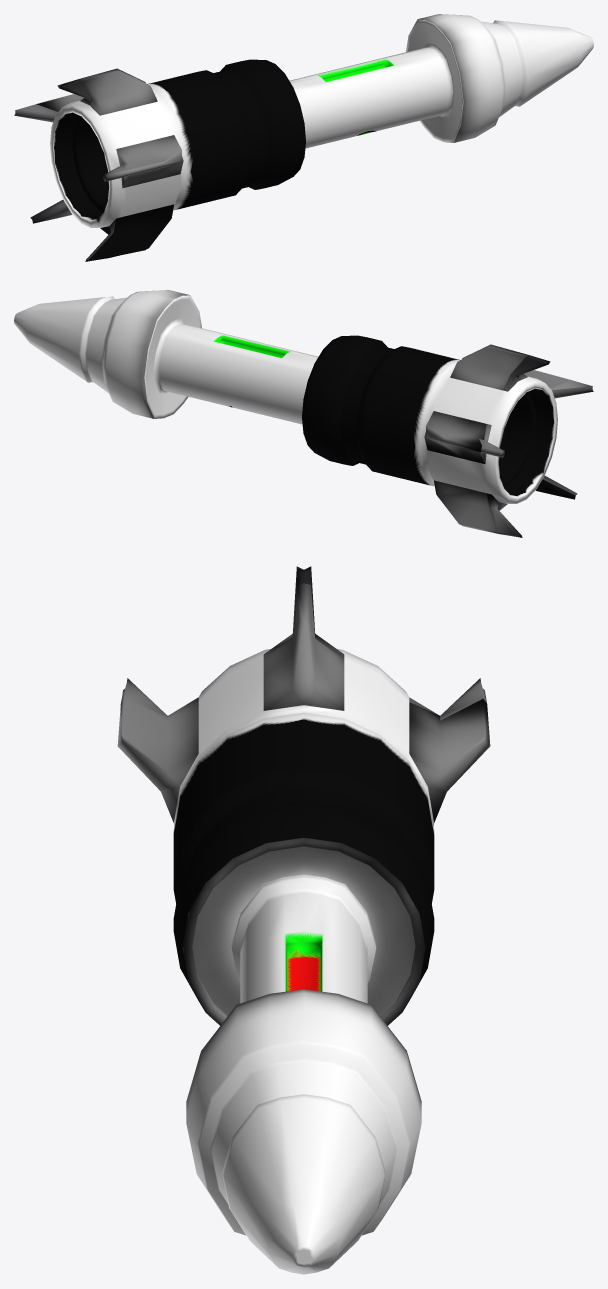
The model's file is OpenRocket.fbx.
3 views of the same model, one above another, from view 1: azimuth 30°, elevation 25°; view 2: azimuth 150°, elevation 25°; view 3: azimuth 270°, elevation 25° (orthographic). The views are drawn at different scales.
Visible parts, largest first — view 1: pCylinder1; view 2: pCylinder1; view 3: pCylinder1.
Part boxes in pixels (<box>): pCylinder1: <box>14,14,593,261</box>; pCylinder1: <box>14,290,593,537</box>; pCylinder1: <box>117,566,490,1274</box>.
Size of the model in its own units: 16.98 by 4.9 by 5.15.
